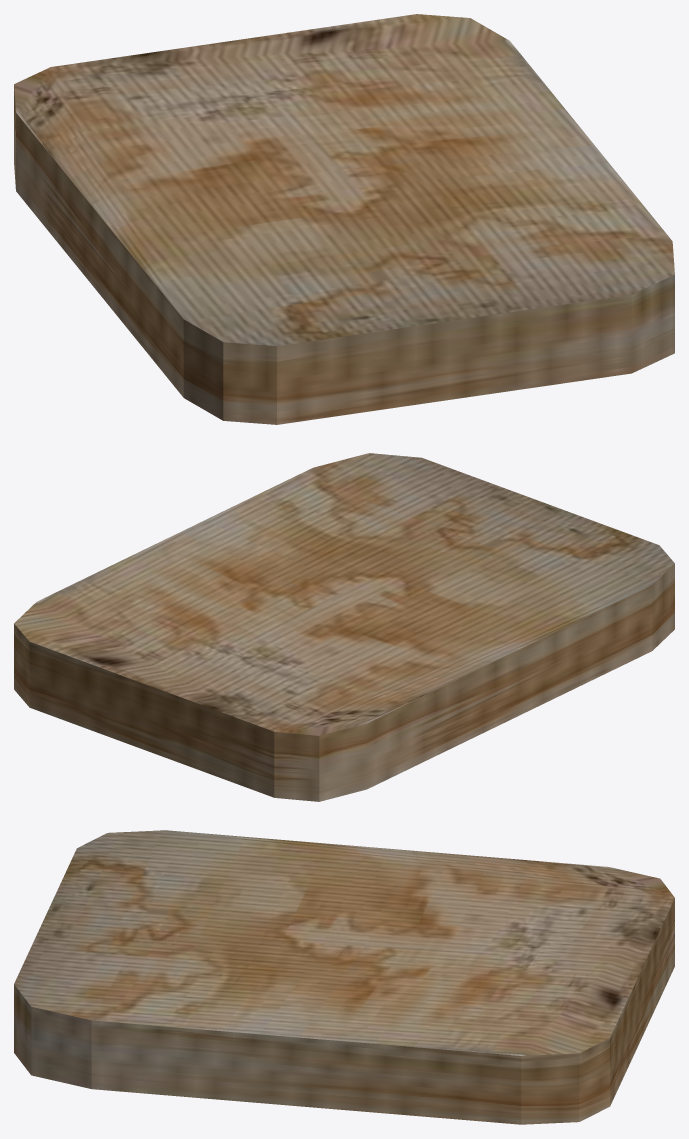
File: mattress.fbx
The picture shows the model from 3 angles, top to bottom: view 1: azimuth 30°, elevation 25°; view 2: azimuth 150°, elevation 25°; view 3: azimuth 270°, elevation 25°; orthographic projection. The views are drawn at different scales.
Visible parts, largest first — view 1: mattress; view 2: mattress; view 3: mattress.
Boxes of the visible parts, x1,y1,x2,y2 form: mattress: (14, 14, 674, 424); mattress: (14, 453, 674, 801); mattress: (14, 830, 674, 1124).
Bounding box in the file's own units: 310 × 44.01 × 384.
Materials: 1 (1 with a texture image).
